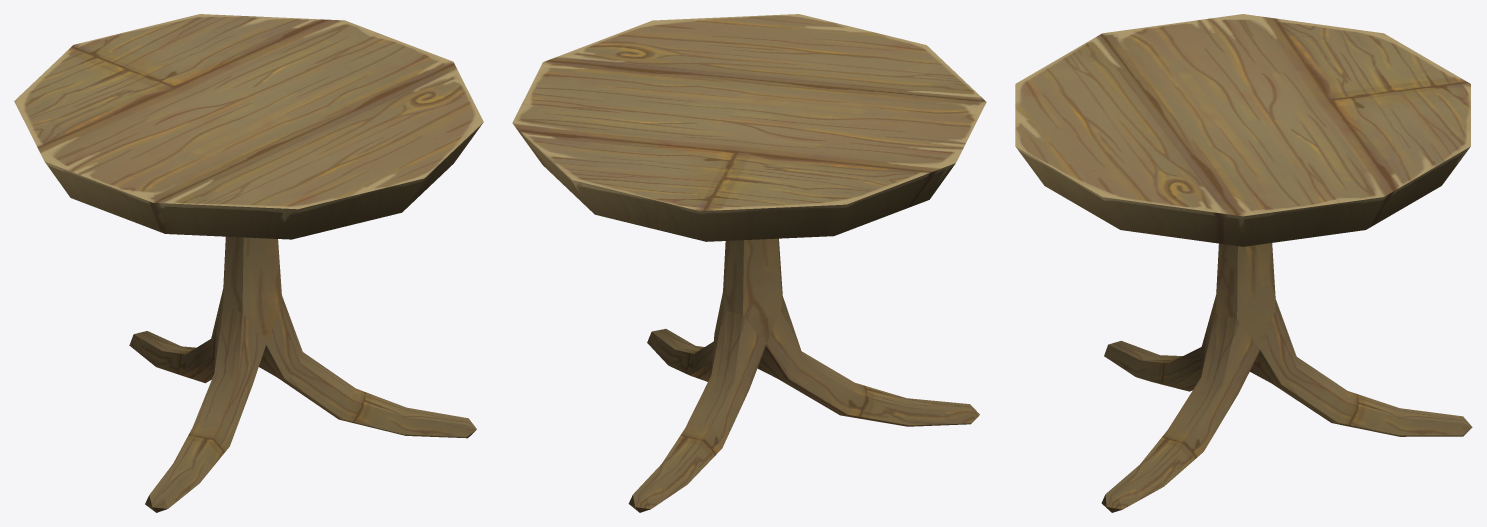
Rendered from Podium.fbx.
3 views of the same model, side by side, from view 1: azimuth 30°, elevation 25°; view 2: azimuth 150°, elevation 25°; view 3: azimuth 270°, elevation 25° (orthographic).
Parts seen in each view (by area): view 1: Table_01; view 2: Table_01; view 3: Table_01.
Boxes of the visible parts, <box> form: Table_01: <box>14,14,483,512</box>; Table_01: <box>512,14,986,512</box>; Table_01: <box>1015,14,1472,512</box>.
Size of the model in its own units: 7.53 by 5.58 by 7.19.
